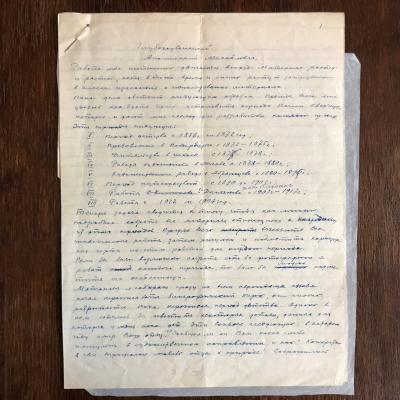document: (57, 12, 351, 390)
